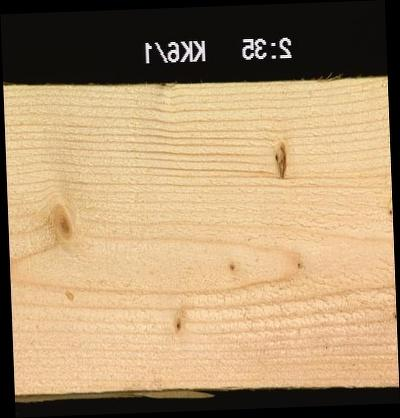small_knot: (165, 311, 188, 334), (222, 259, 241, 273), (388, 306, 395, 322), (384, 202, 391, 217)
sound_knot: (42, 203, 80, 241)
